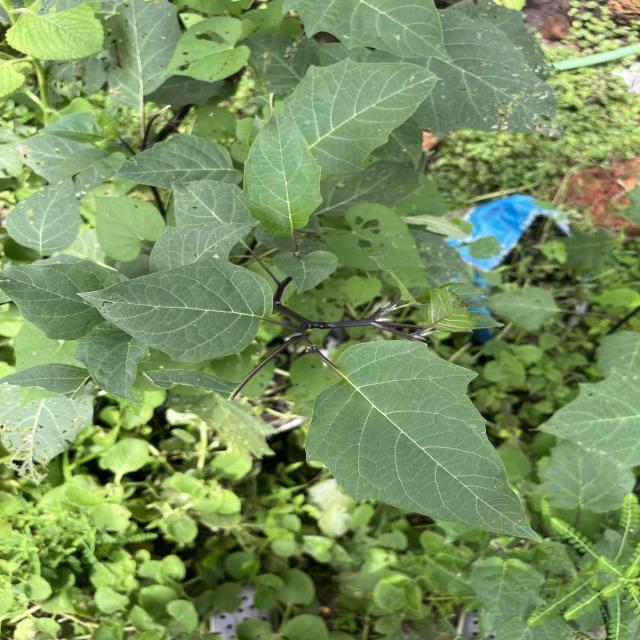Datura metal linn: (302, 338, 548, 544), (74, 254, 276, 364), (235, 103, 325, 239)
